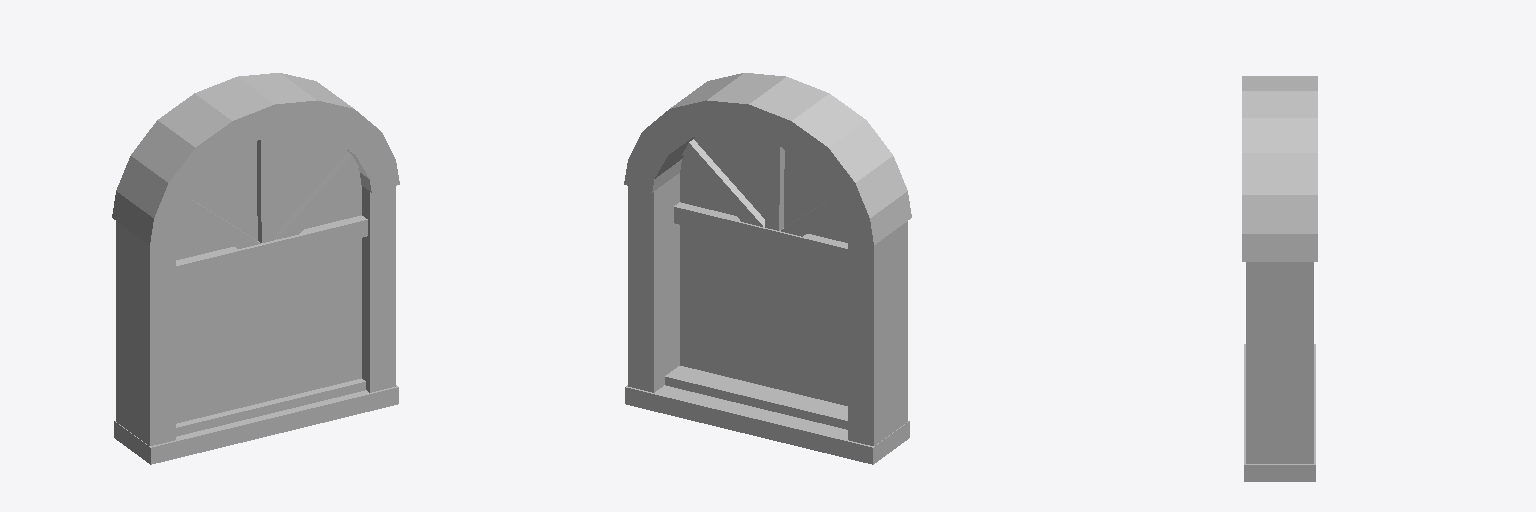
The model's file is Window_Wide_Round2.obj.
3 views of the same model, side by side, from view 1: azimuth 30°, elevation 25°; view 2: azimuth 150°, elevation 25°; view 3: azimuth 270°, elevation 25° (orthographic).
Parts seen in each view (by area): view 1: Window_Wide_Round2; view 2: Window_Wide_Round2; view 3: Window_Wide_Round2.
Part boxes in pixels (x1,y1,x2,y2): Window_Wide_Round2: (112,73,399,464); Window_Wide_Round2: (624,73,911,464); Window_Wide_Round2: (1242,76,1317,481).
Bounding box in the file's own units: 1.36 × 1.73 × 0.3591.